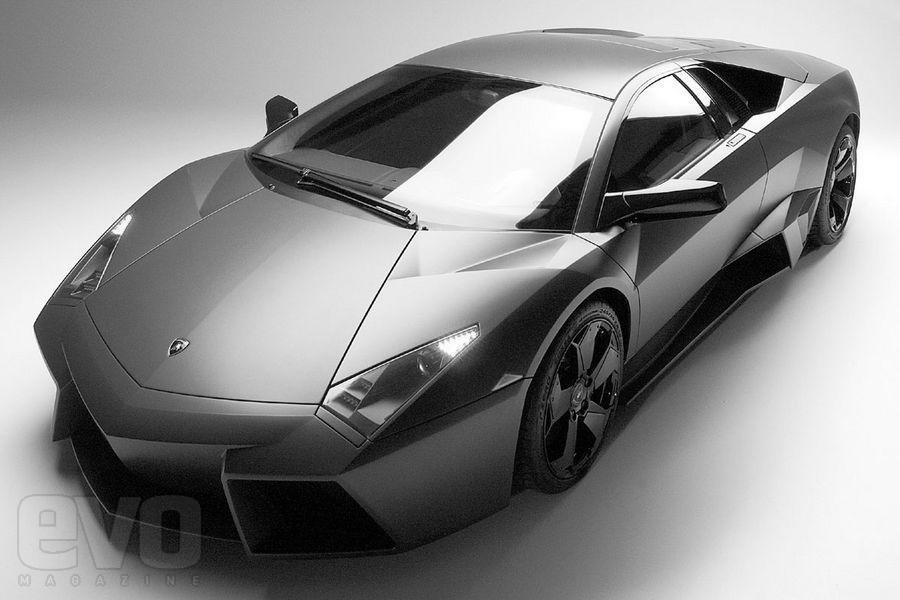car: (33, 28, 865, 567)
